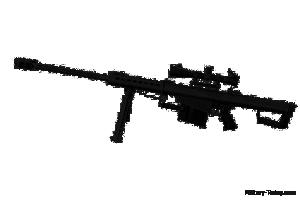sniper: (13, 52, 294, 154)
